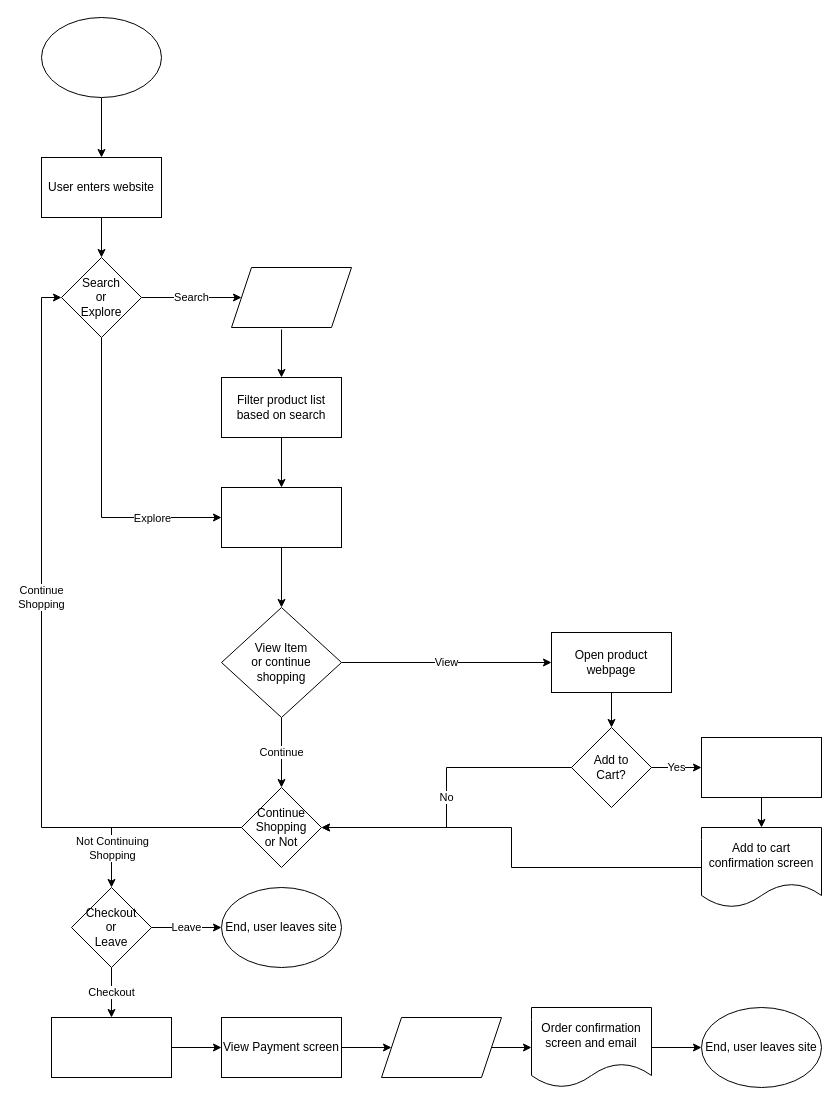
Image size: 839x1105. Some labels were removed from this diagram. The shapes that lost their labels are listed below. From the top down, each one's box as (x1, y1, x2, y2) in pixels, then its label:
(40, 16, 162, 98): Start
(230, 266, 352, 328): User provides input for search
(220, 486, 342, 548): User looks over product list
(700, 736, 822, 798): Add item to cart
(50, 1016, 172, 1078): View Cart screen
(380, 1016, 502, 1078): User enters payment data
